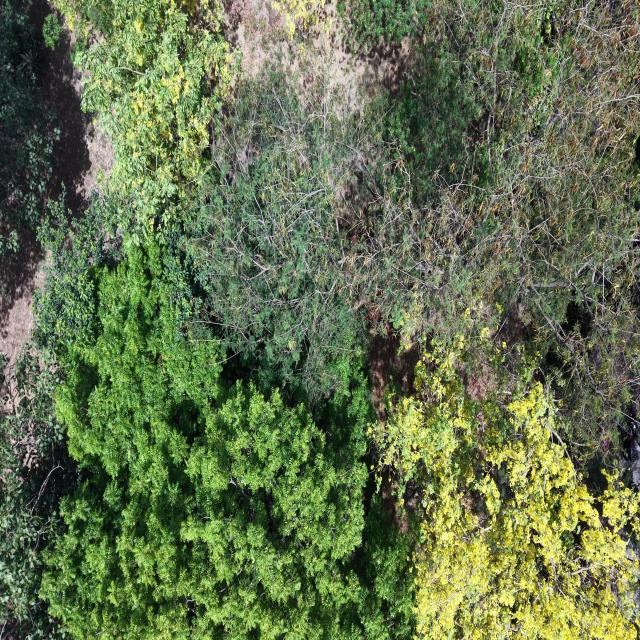DRY_AREA: (225, 0, 413, 118), (226, 0, 415, 117), (225, 0, 413, 117), (225, 0, 412, 112), (225, 0, 411, 112), (38, 30, 112, 216), (40, 29, 113, 215), (42, 30, 113, 216), (42, 30, 113, 215), (43, 29, 113, 215), (42, 30, 91, 215), (0, 231, 43, 412), (0, 419, 76, 515), (0, 232, 43, 362), (369, 325, 419, 422), (369, 325, 419, 421), (81, 125, 114, 197), (630, 420, 639, 487)
VEGETATION_TREE: (0, 0, 639, 639), (196, 2, 639, 463), (41, 247, 412, 638), (374, 0, 639, 459), (375, 334, 639, 639), (187, 68, 363, 394), (56, 0, 230, 236), (0, 349, 75, 639), (0, 348, 73, 638), (0, 0, 59, 257), (32, 194, 122, 358), (337, 0, 431, 50), (271, 0, 324, 39), (43, 14, 61, 50)
